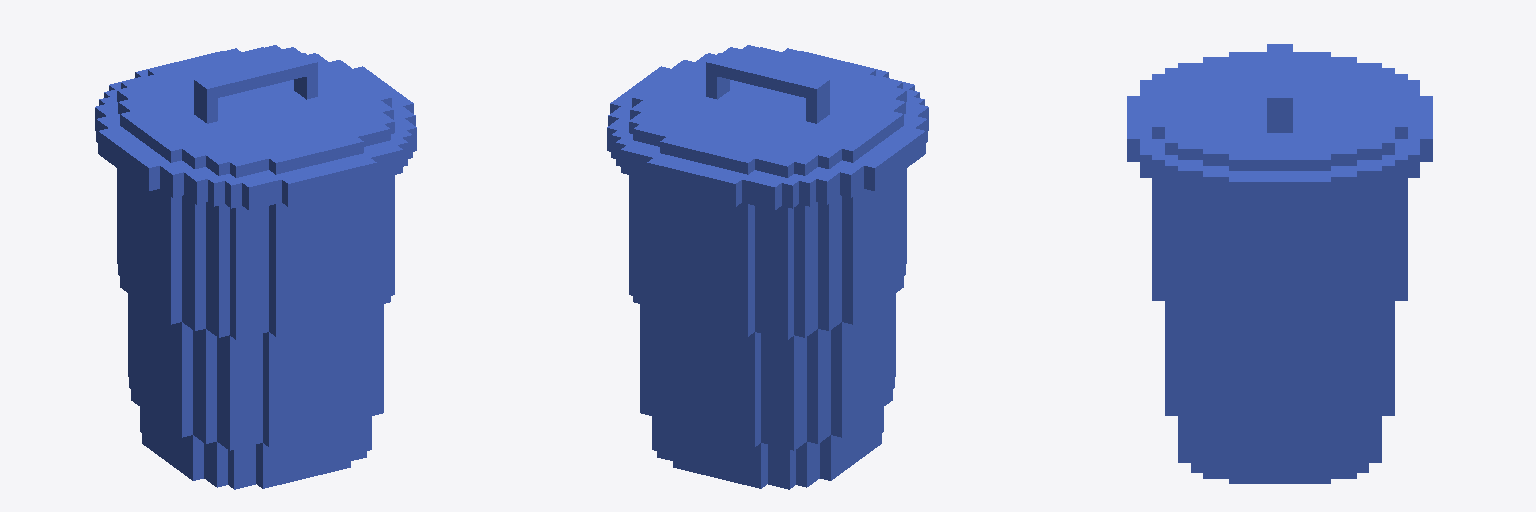
3 views of the same model, side by side, from view 1: azimuth 30°, elevation 25°; view 2: azimuth 150°, elevation 25°; view 3: azimuth 270°, elevation 25° (orthographic).
Visible parts, largest first — view 1: object 1; view 2: object 1; view 3: object 1.
Boxes of the visible parts, x1,y1,x2,y2 form: object 1: [95, 45, 416, 489]; object 1: [607, 45, 928, 489]; object 1: [1127, 44, 1432, 483].
Bounding box in the file's own units: 2.4 × 3.2 × 2.4.
1 materials, 1 textured.